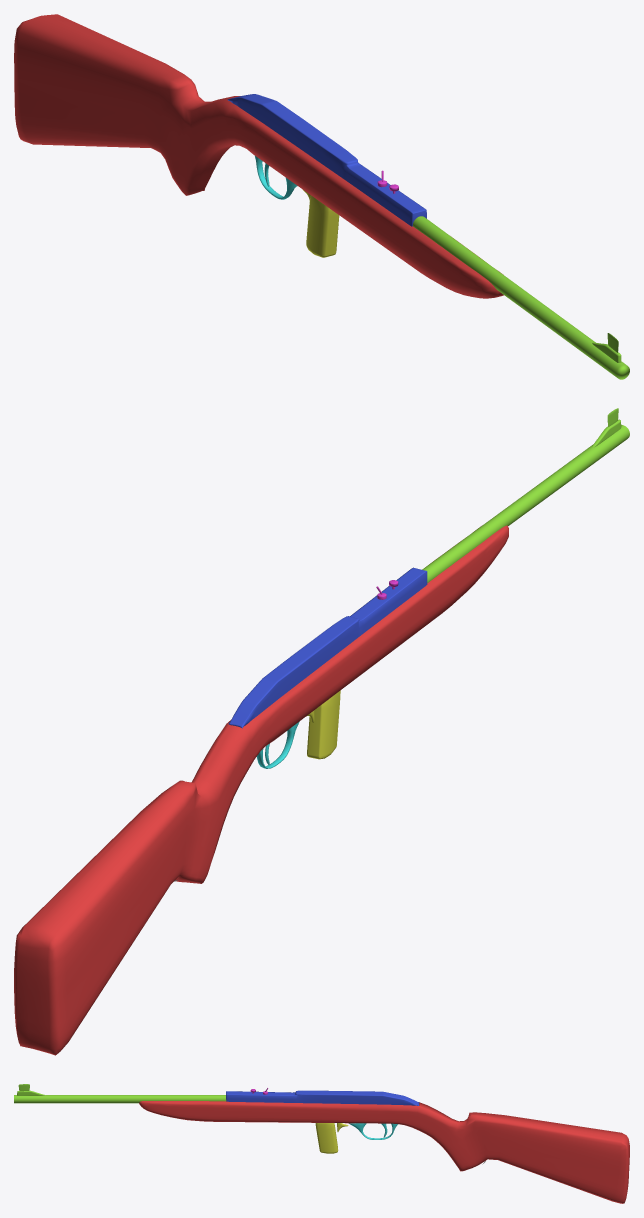
Rendered from rifle.fbx.
3 views of the same model, one above another, from view 1: azimuth 30°, elevation 25°; view 2: azimuth 150°, elevation 25°; view 3: azimuth 270°, elevation 25° (orthographic). The views are drawn at different scales.
Parts seen in each view (by area): view 1: low; view 2: low; view 3: low.
Part boxes in pixels (x1,y1,x2,y2): low: (14,14,629,379); low: (14,408,629,1055); low: (14,1084,629,1203).
Size of the model in its own units: 48.63 by 214 by 1035.
